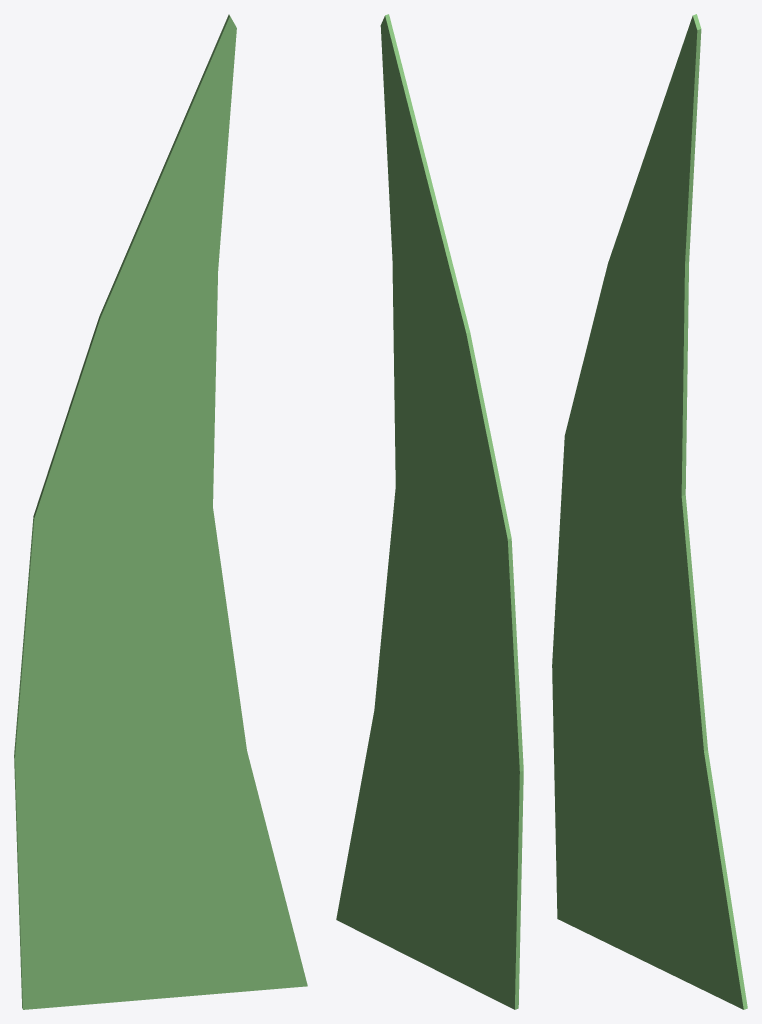
The model's file is ramen3.glb.
3 renders of one model, left to right at view 1: azimuth 30°, elevation 25°; view 2: azimuth 150°, elevation 25°; view 3: azimuth 330°, elevation 25°, orthographic. The views are drawn at different scales.
Parts seen in each view (by area): view 1: Plane.017; view 2: Plane.017; view 3: Plane.017.
Boxes of the visible parts, box(x1,y1,x2,y2) form: Plane.017: box(14, 14, 307, 1009); Plane.017: box(336, 14, 523, 1009); Plane.017: box(552, 14, 747, 1009).
Bounding box in the file's own units: 0.034 × 0.1301 × 0.0126.
